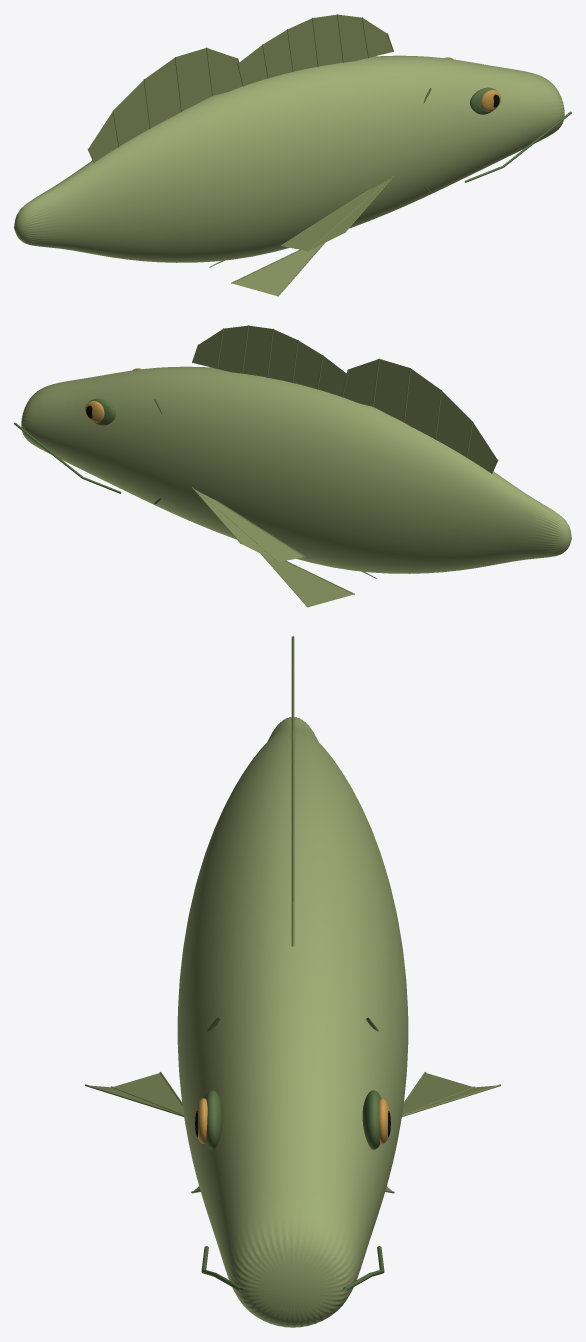
Rendered from SM_BassBody.fbx.
The picture shows the model from 3 angles, top to bottom: view 1: azimuth 30°, elevation 25°; view 2: azimuth 150°, elevation 25°; view 3: azimuth 270°, elevation 25°; orthographic projection. The views are drawn at different scales.
Visible parts, largest first — view 1: SM_BassBody.001; view 2: SM_BassBody.001; view 3: SM_BassBody.001.
Part boxes in pixels (x1=…): SM_BassBody.001: x1=14, y1=14, x2=571, y2=296; SM_BassBody.001: x1=14, y1=325, x2=571, y2=607; SM_BassBody.001: x1=85, y1=636, x2=500, y2=1327.
Bounding box in the file's own units: 43.68 × 14.46 × 18.84.
